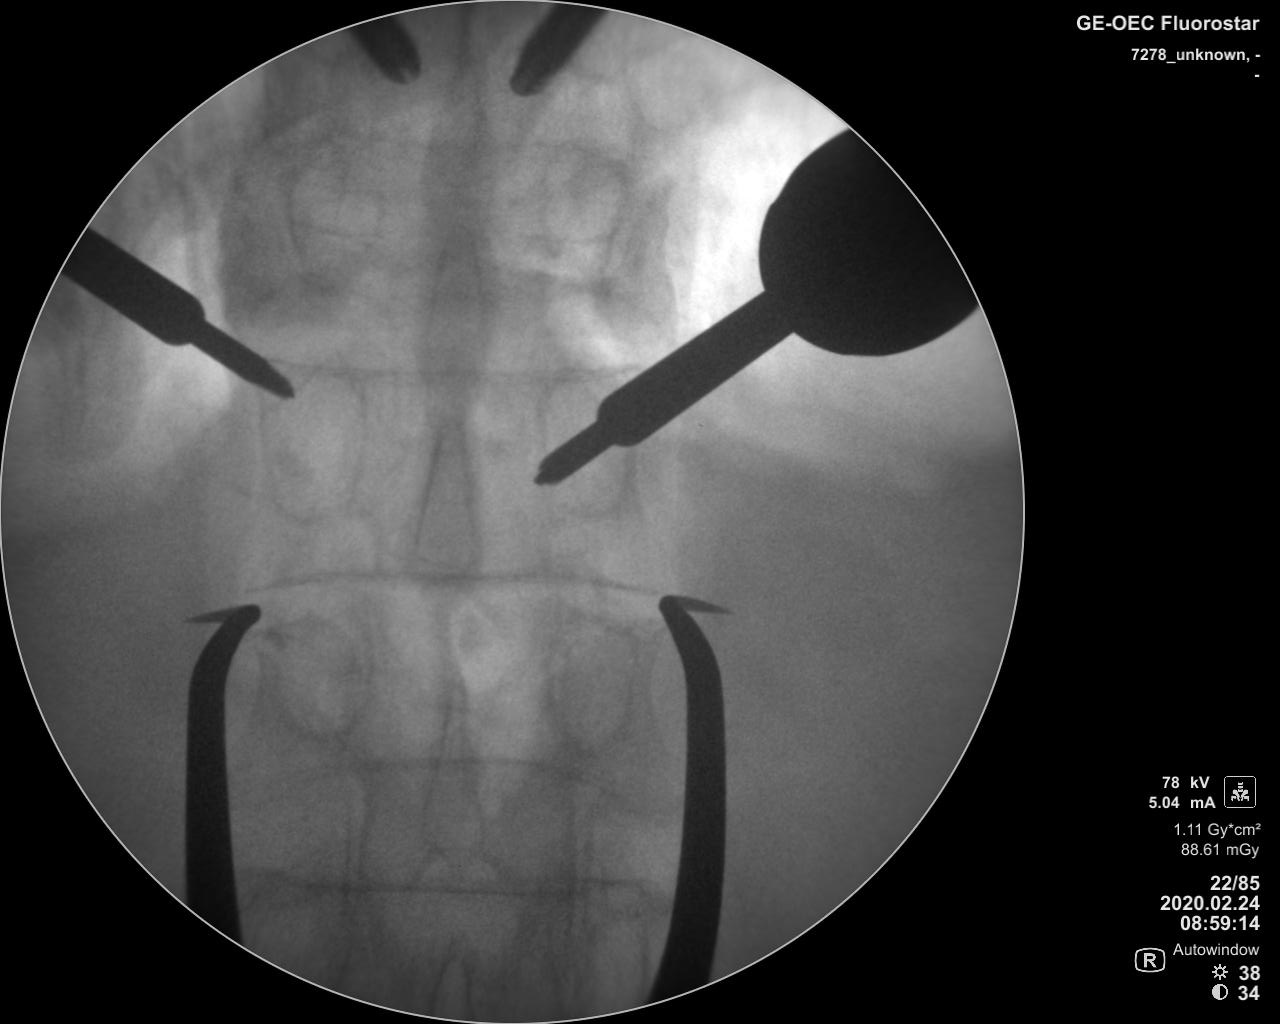eyes: (269, 365, 367, 526), (536, 374, 632, 519), (541, 608, 635, 755), (258, 618, 368, 740), (282, 159, 379, 294), (537, 140, 626, 247)
line: (266, 751, 612, 792), (238, 569, 657, 598), (274, 868, 635, 901), (312, 356, 581, 387)
nose: (419, 31, 494, 236), (415, 228, 488, 418), (417, 683, 491, 862), (412, 415, 481, 592)
